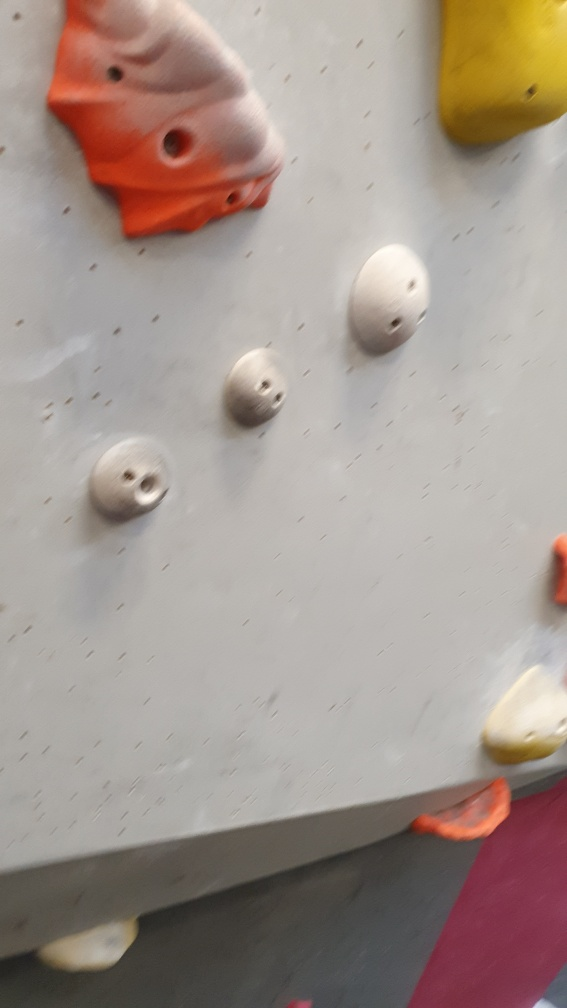Jug: (42, 1, 292, 243), (406, 777, 515, 841)
Sloper: (348, 242, 433, 362), (88, 435, 176, 524), (222, 343, 291, 432)
